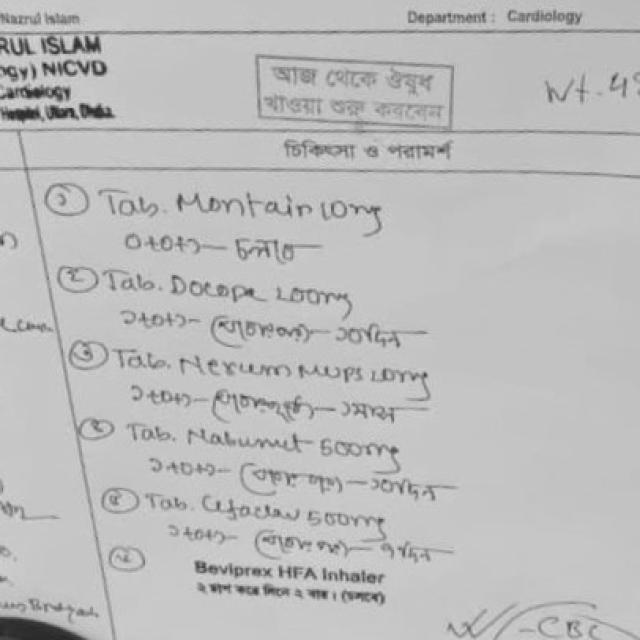medicine: (175, 346, 368, 392), (164, 182, 314, 230), (175, 416, 312, 456), (160, 260, 264, 312), (191, 484, 305, 529)
